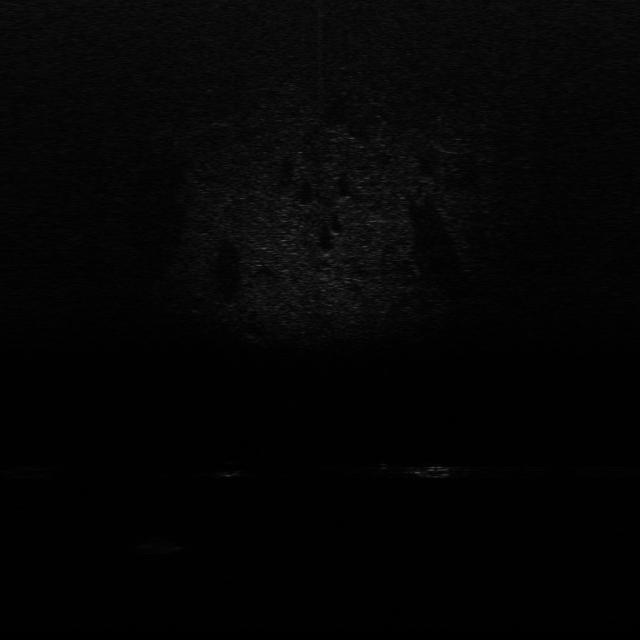ball: (210, 458, 242, 481)
circle cage: (127, 532, 187, 558)
human body: (376, 456, 478, 483)
